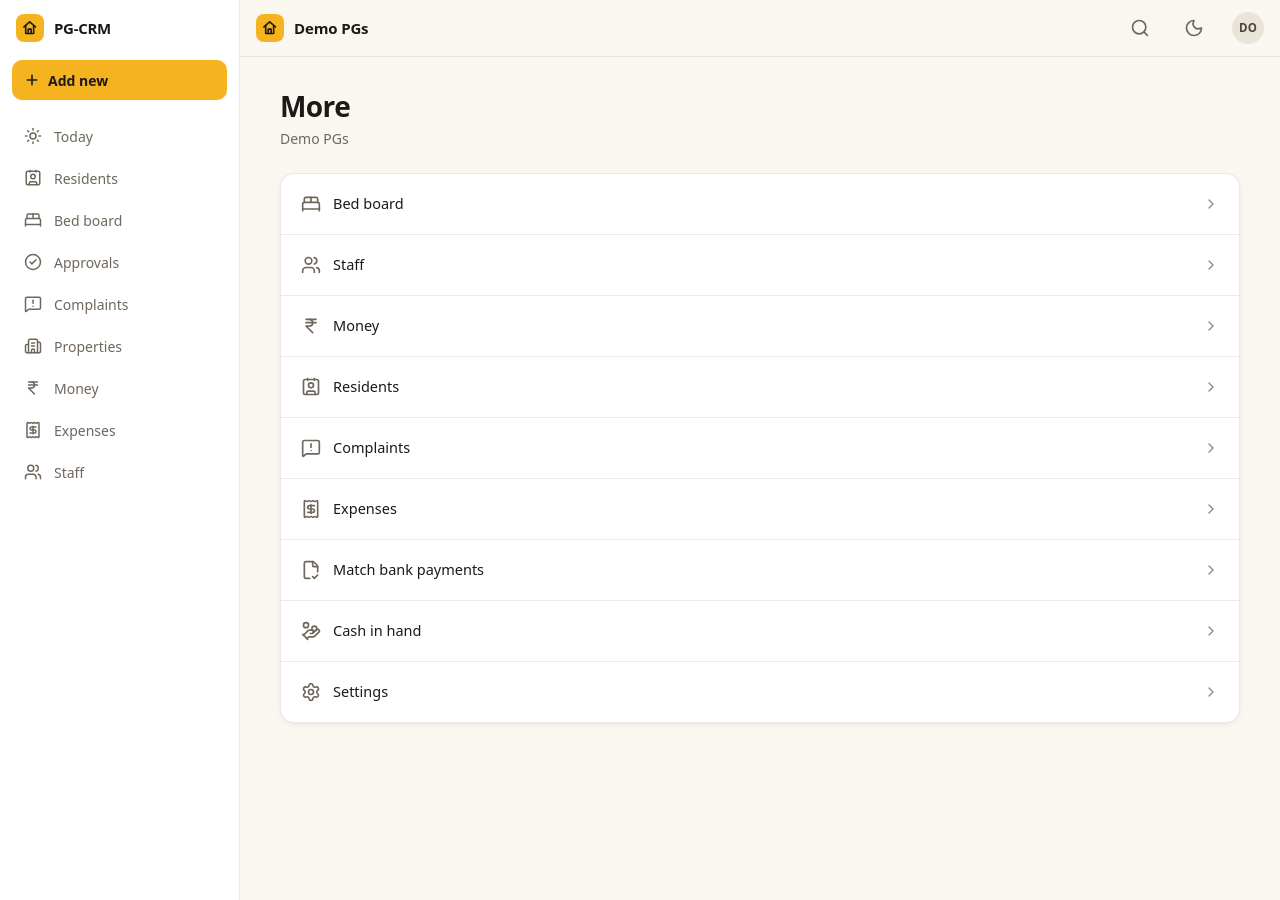
Test: Staff screen › More page links to Staff
Click the link "Staff" below "More" at x=349, y=264, box [301,254,1219,275]
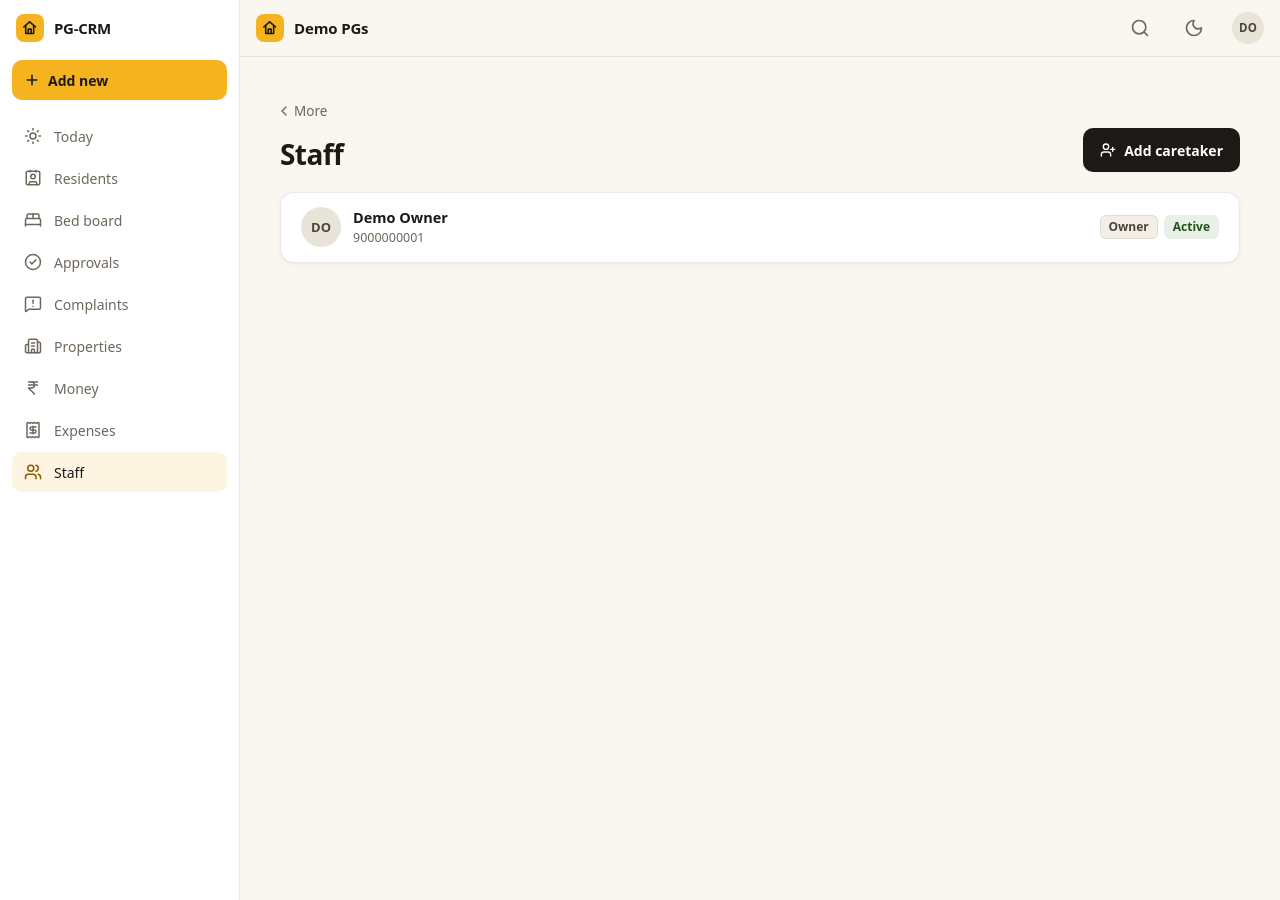
Result: the heading "Staff" is shown at [280,137,343,172]
